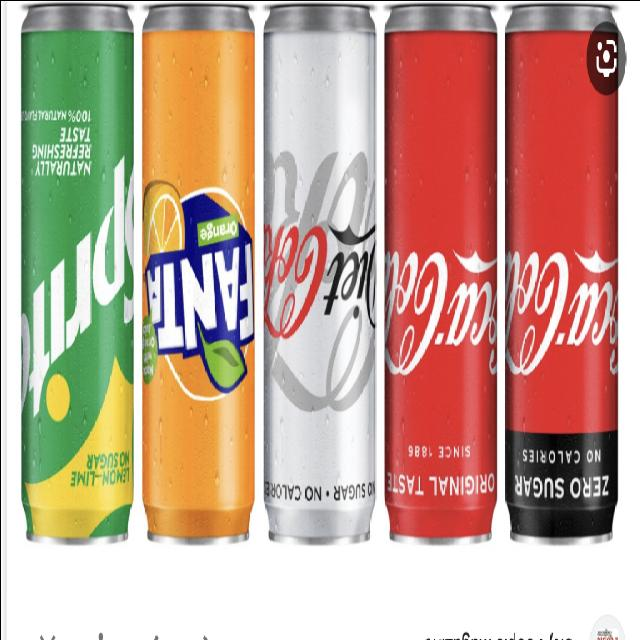can: (256, 0, 387, 578), (10, 0, 144, 563), (135, 0, 265, 574), (378, 0, 504, 578)
